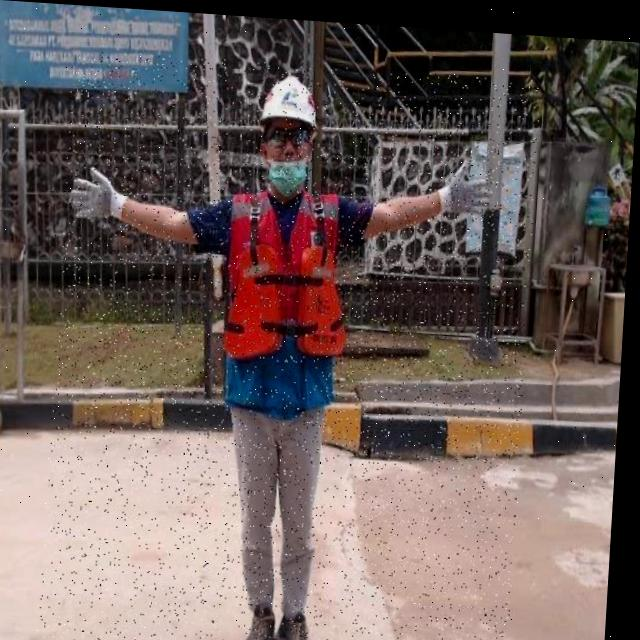Gloves: (68, 163, 130, 222), (438, 162, 509, 212)
Helmet: (257, 68, 330, 120)
Safety-Boot: (247, 597, 283, 640), (283, 605, 326, 640)
Safety-Vest: (224, 180, 356, 361)
